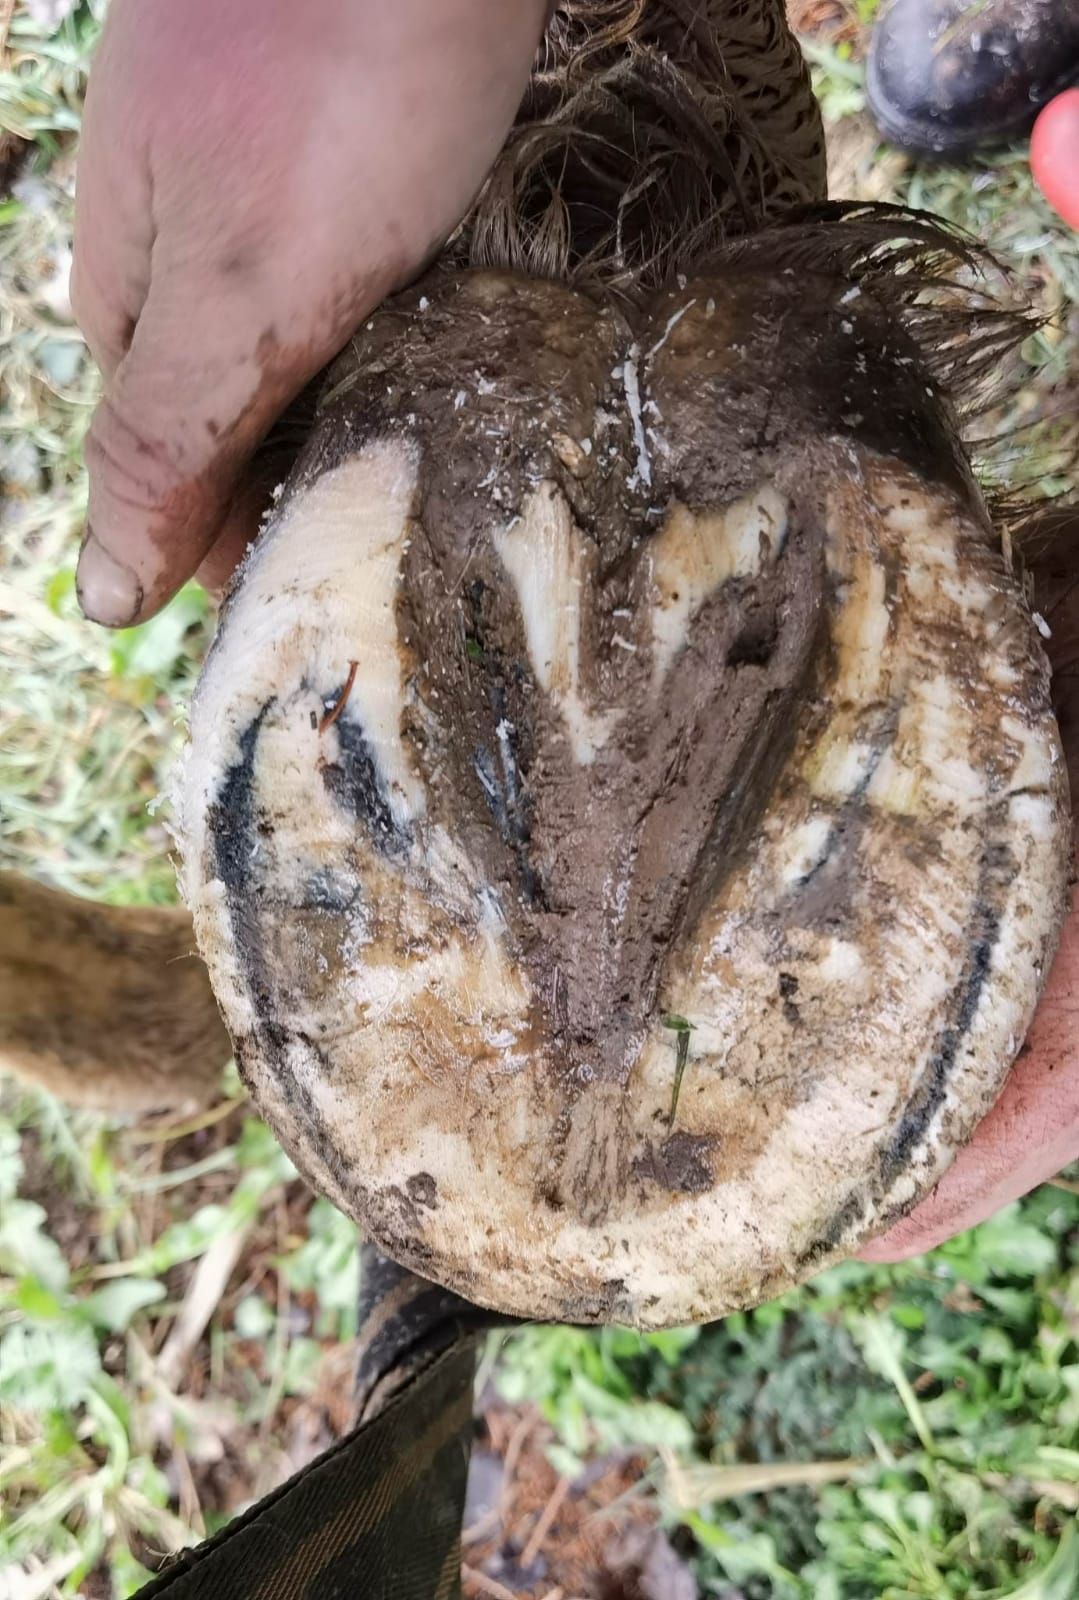horsesole: (182, 420, 1074, 1333)
